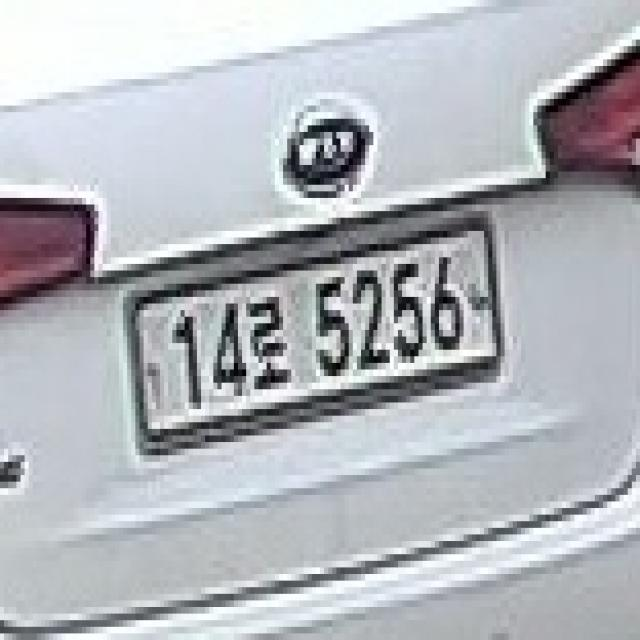1: (168, 310, 209, 416)
2: (353, 264, 390, 383)
4: (213, 297, 250, 416)
5: (312, 270, 353, 390), (389, 250, 426, 370)
6: (426, 244, 472, 363)
license_plate: (119, 204, 509, 482)
lo: (247, 284, 296, 409)
